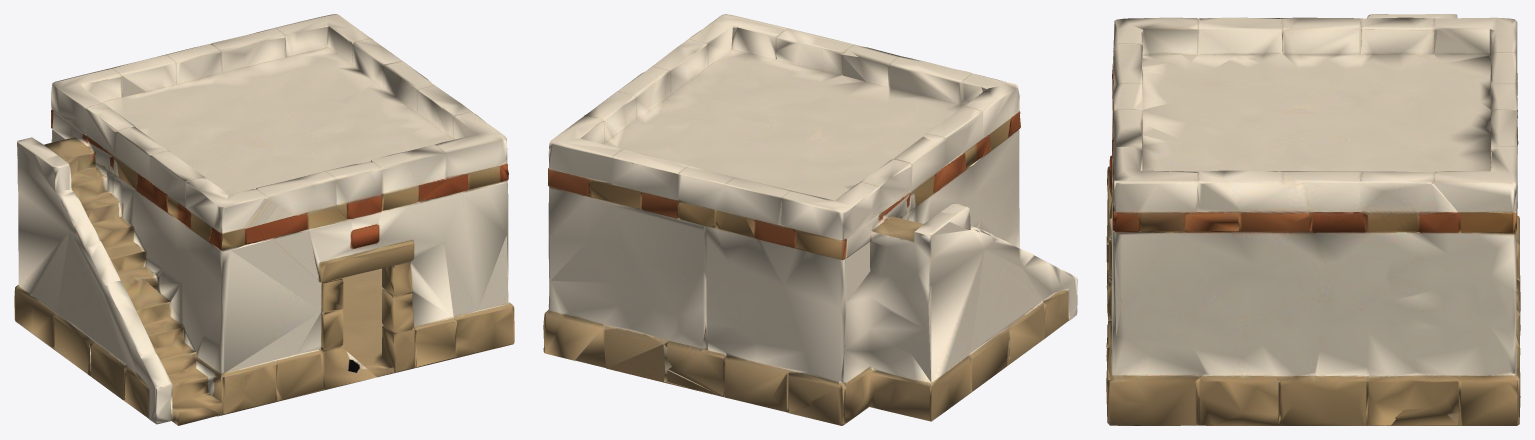
Rendered from rooftop-house.glb.
The picture shows the model from 3 angles, left to right: view 1: azimuth 30°, elevation 25°; view 2: azimuth 150°, elevation 25°; view 3: azimuth 270°, elevation 25°; orthographic projection. The views are drawn at different scales.
Parts seen in each view (by area): view 1: rooftop-house; view 2: rooftop-house; view 3: rooftop-house.
Boxes of the visible parts, left/top/right/bottom form: rooftop-house: left=14, top=14, right=514, bottom=425; rooftop-house: left=543, top=14, right=1077, bottom=425; rooftop-house: left=1106, top=14, right=1520, bottom=425.
Bounding box in the file's own units: 2 × 1.12 × 1.74.
Materials: 1 (1 with a texture image).
